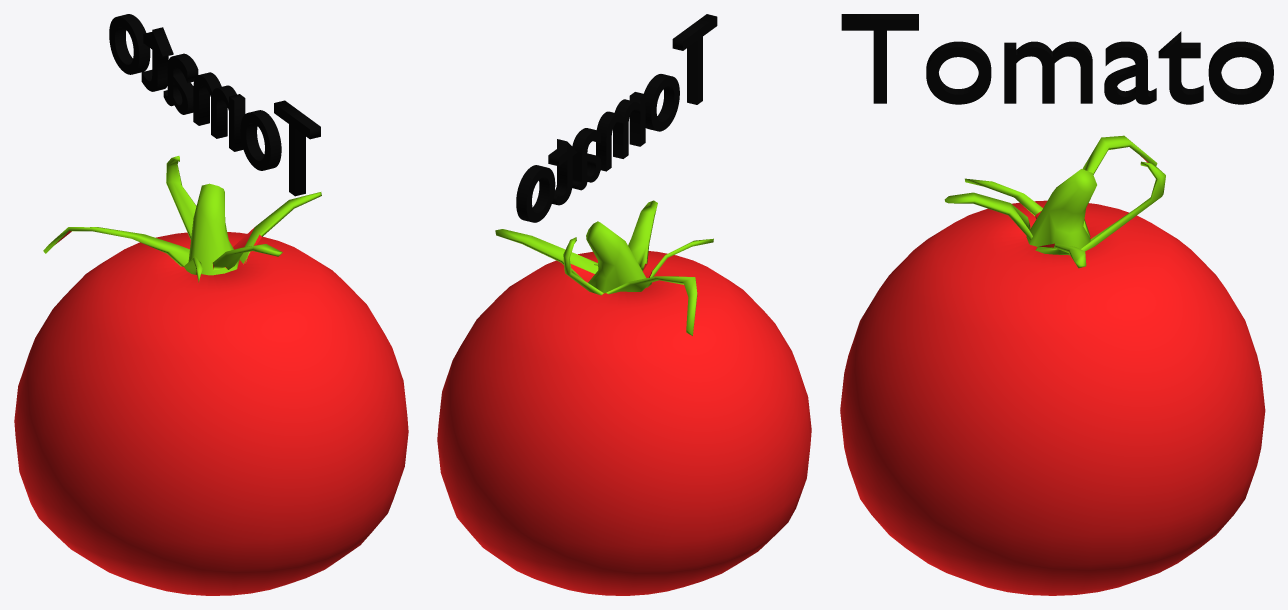
The model's file is Tamato.gltf.
3 renders of one model, left to right at view 1: azimuth 30°, elevation 25°; view 2: azimuth 150°, elevation 25°; view 3: azimuth 270°, elevation 25°, orthographic. The views are drawn at different scales.
Parts seen in each view (by area): view 1: Tomato, Text, Tomato.001; view 2: Tomato, Text, Tomato.001; view 3: Tomato, Text, Tomato.001.
Part boxes in pixels (left/top/right/bottom): Tomato: left=14, top=227, right=408, bottom=595; Text: left=109, top=14, right=320, bottom=196; Tomato.001: left=43, top=156, right=321, bottom=282; Tomato: left=437, top=251, right=811, bottom=595; Text: left=516, top=14, right=717, bottom=222; Tomato.001: left=495, top=200, right=713, bottom=335; Tomato: left=840, top=156, right=1265, bottom=595; Text: left=841, top=14, right=1273, bottom=104; Tomato.001: left=944, top=135, right=1165, bottom=268.
Size of the model in its own units: 1.7 by 2.45 by 1.74.
